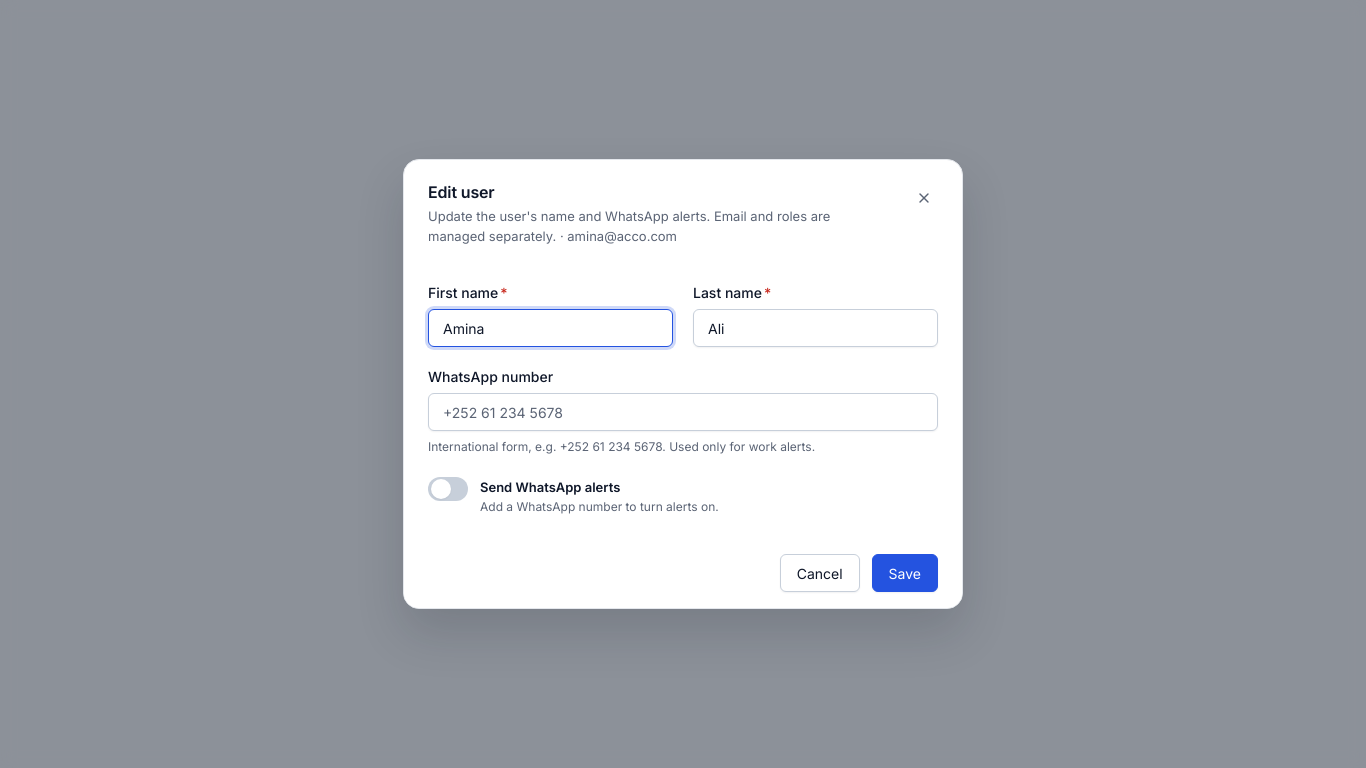
EditUserDialog — WhatsApp alerts (ADR-044 phase 2) › refuses a number without the country code before any request
Type "0612345678" into the field labelled "WhatsApp number" at (683, 412), box [428,393,938,431]
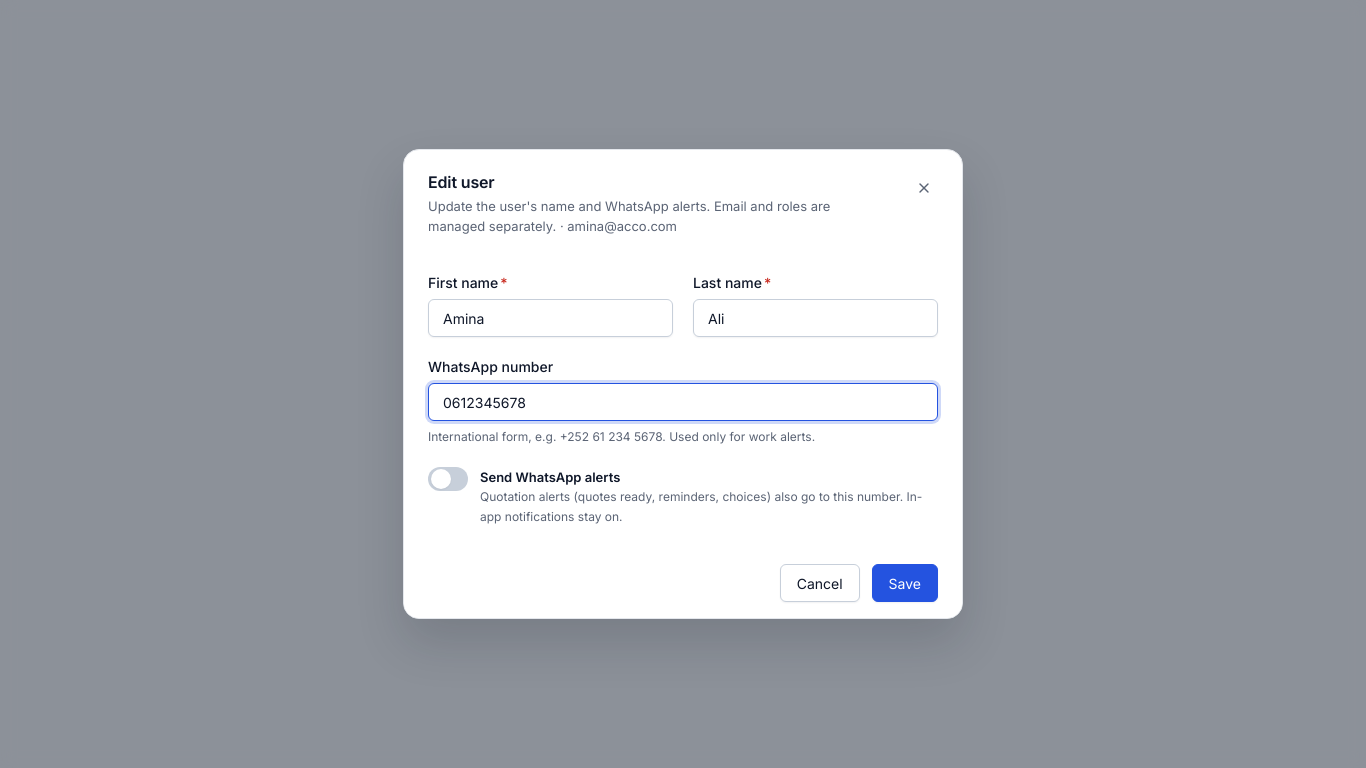
Click the button "Save" at (905, 583), box [872,564,938,602]
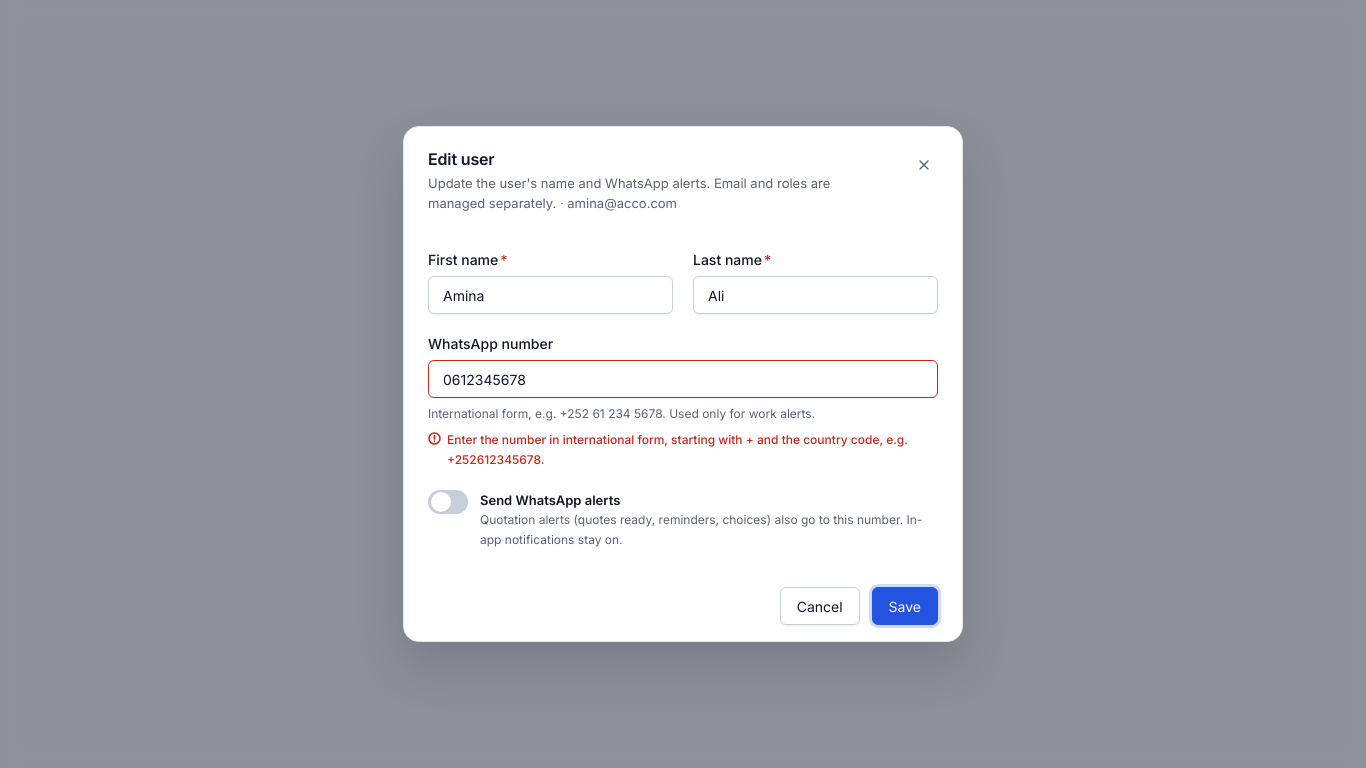
Expected: the text "Enter the number in international form" is shown, [447,432,908,467]
